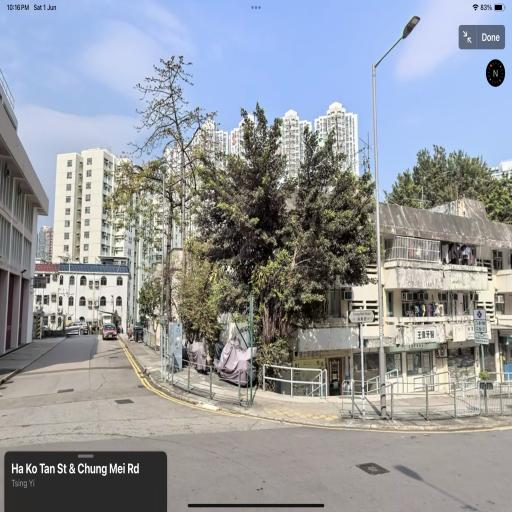Roads: (0, 320, 510, 512)
Trees: (158, 64, 349, 417)
